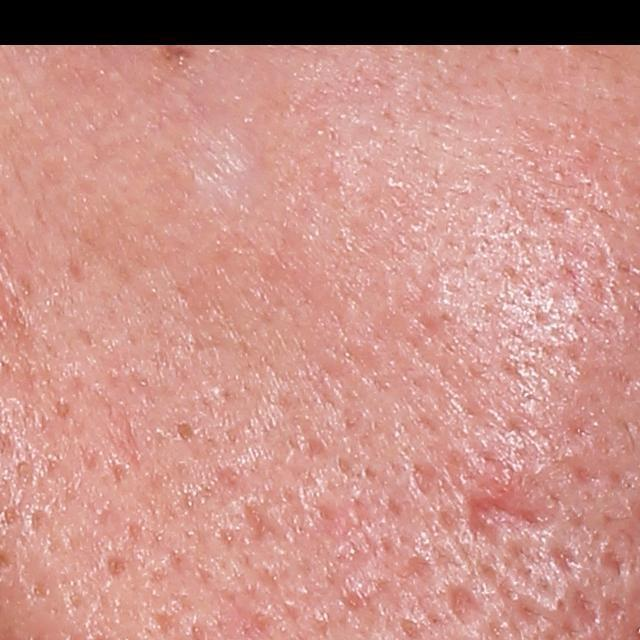atrophic_scar: (463, 480, 555, 550), (237, 495, 288, 548), (446, 582, 484, 628), (407, 460, 435, 504)
comedo: (178, 422, 195, 446)
nevus: (154, 33, 201, 72)
